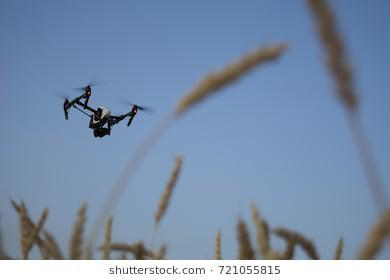drone: (46, 72, 157, 144)
